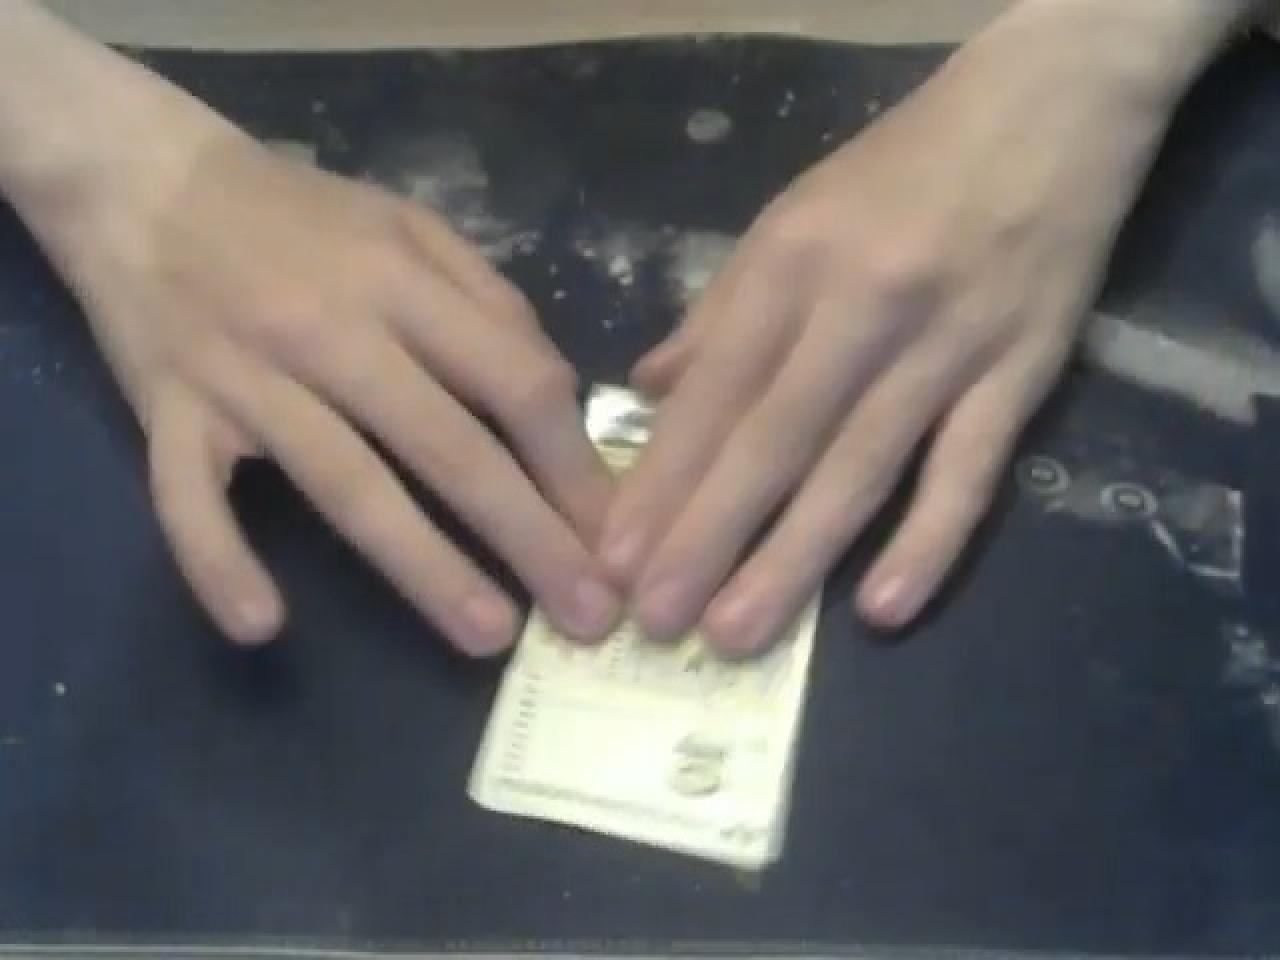10leva: (466, 605, 820, 869)
